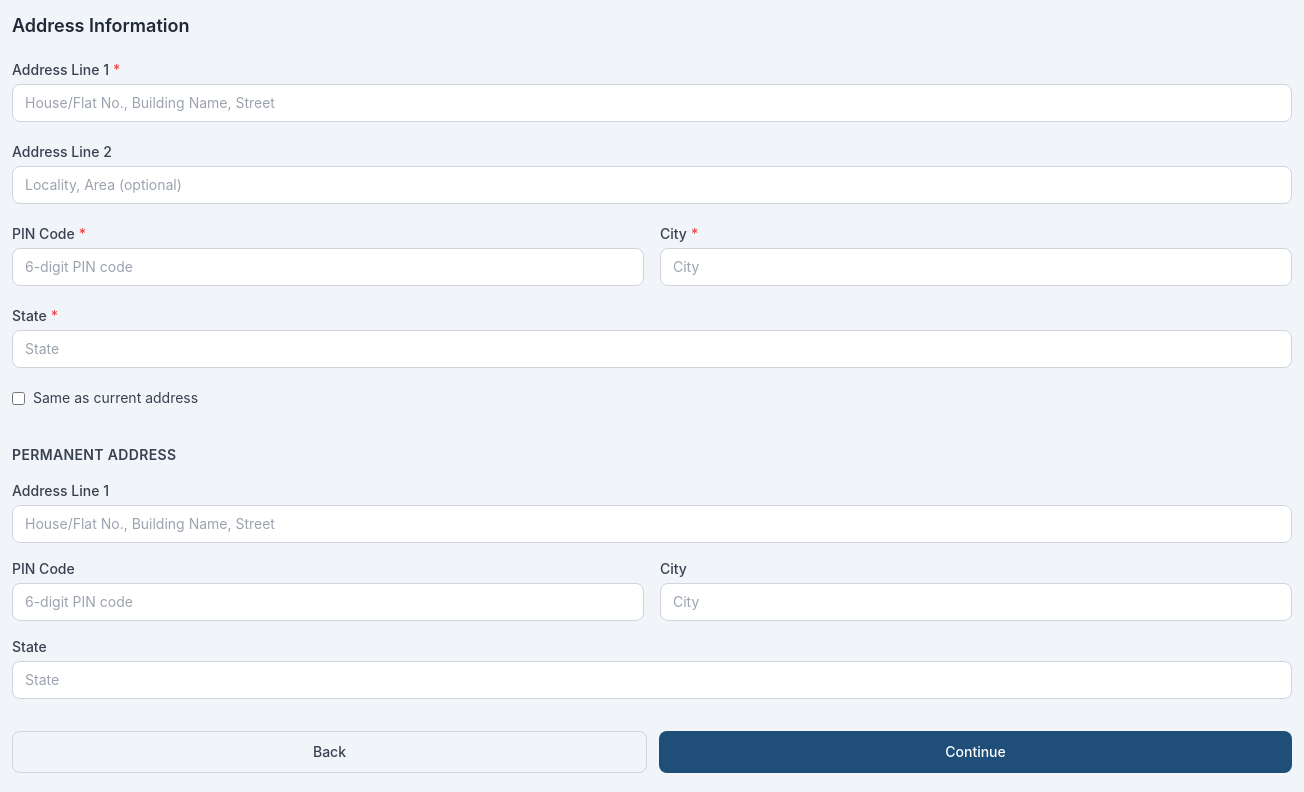
Test: AddressInfo component › shows validation errors for empty required fields
Step 1. Click the button "Continue" → [976, 752], box [659,731,1292,773]
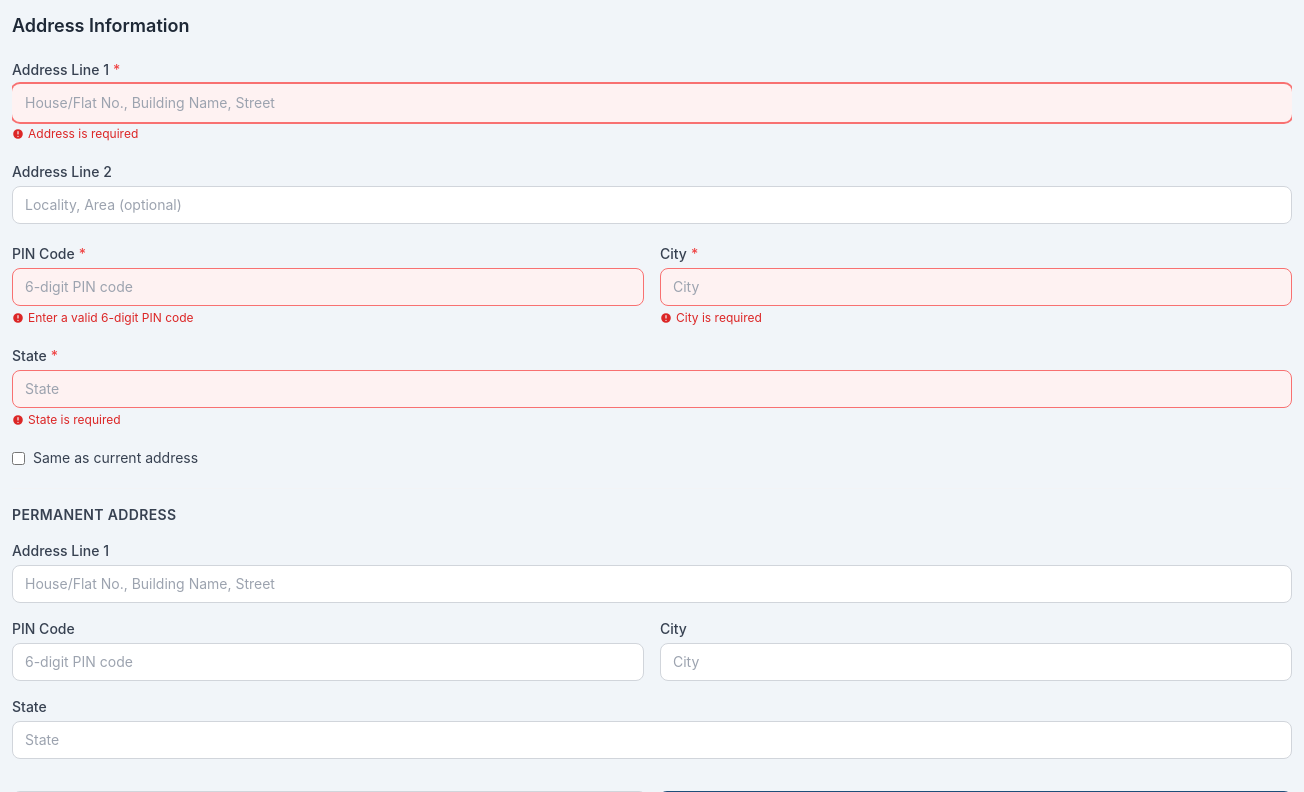
Check: the message "Address is required" is shown, box [12,126,138,141]
